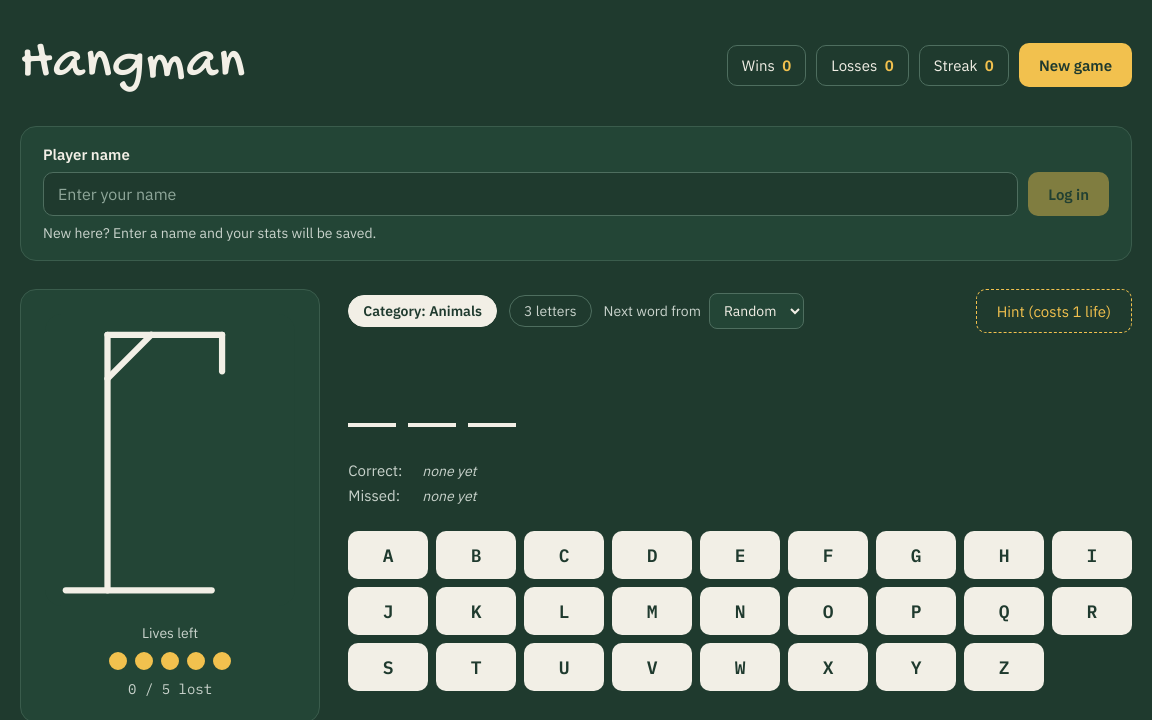
Test: App — player login and stats › creates a new player with a POST when the GET returns 404
The image size is (1152, 720).
Type "Nya" into the field labelled "Player name" at (531, 194), box top-left (43, 172), bottom-right (1018, 216)
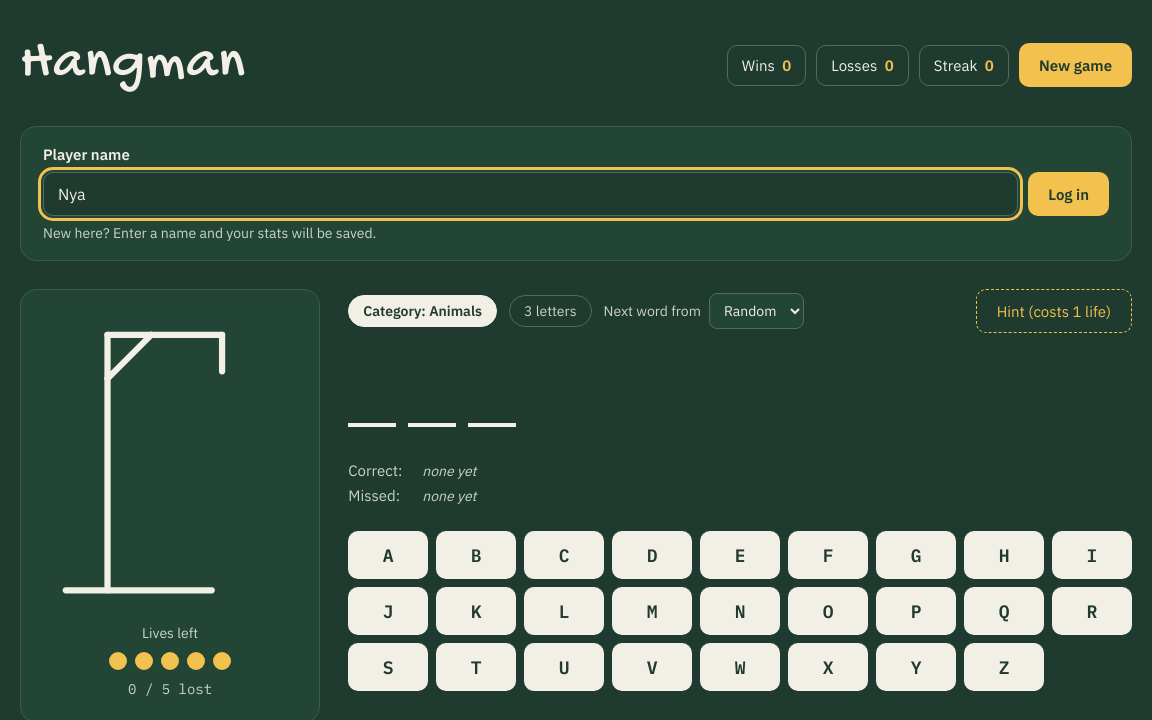
Click the button "Log in" at (1069, 194), box top-left (1028, 172), bottom-right (1109, 216)
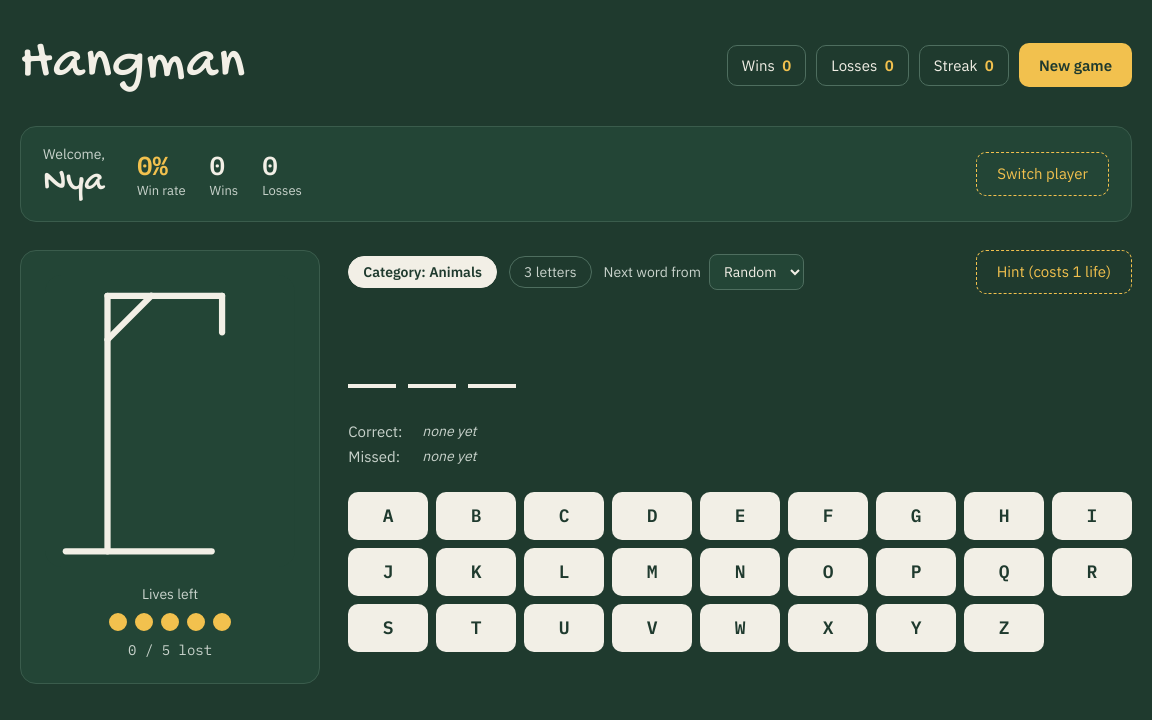
Result: the text "Nya" is shown at top-left (43, 163), bottom-right (105, 203)
Result: the text "Welcome," is shown at top-left (43, 145), bottom-right (105, 163)
Result: the text with test id "win-percentage" reads "0%" at top-left (137, 148), bottom-right (168, 182)
